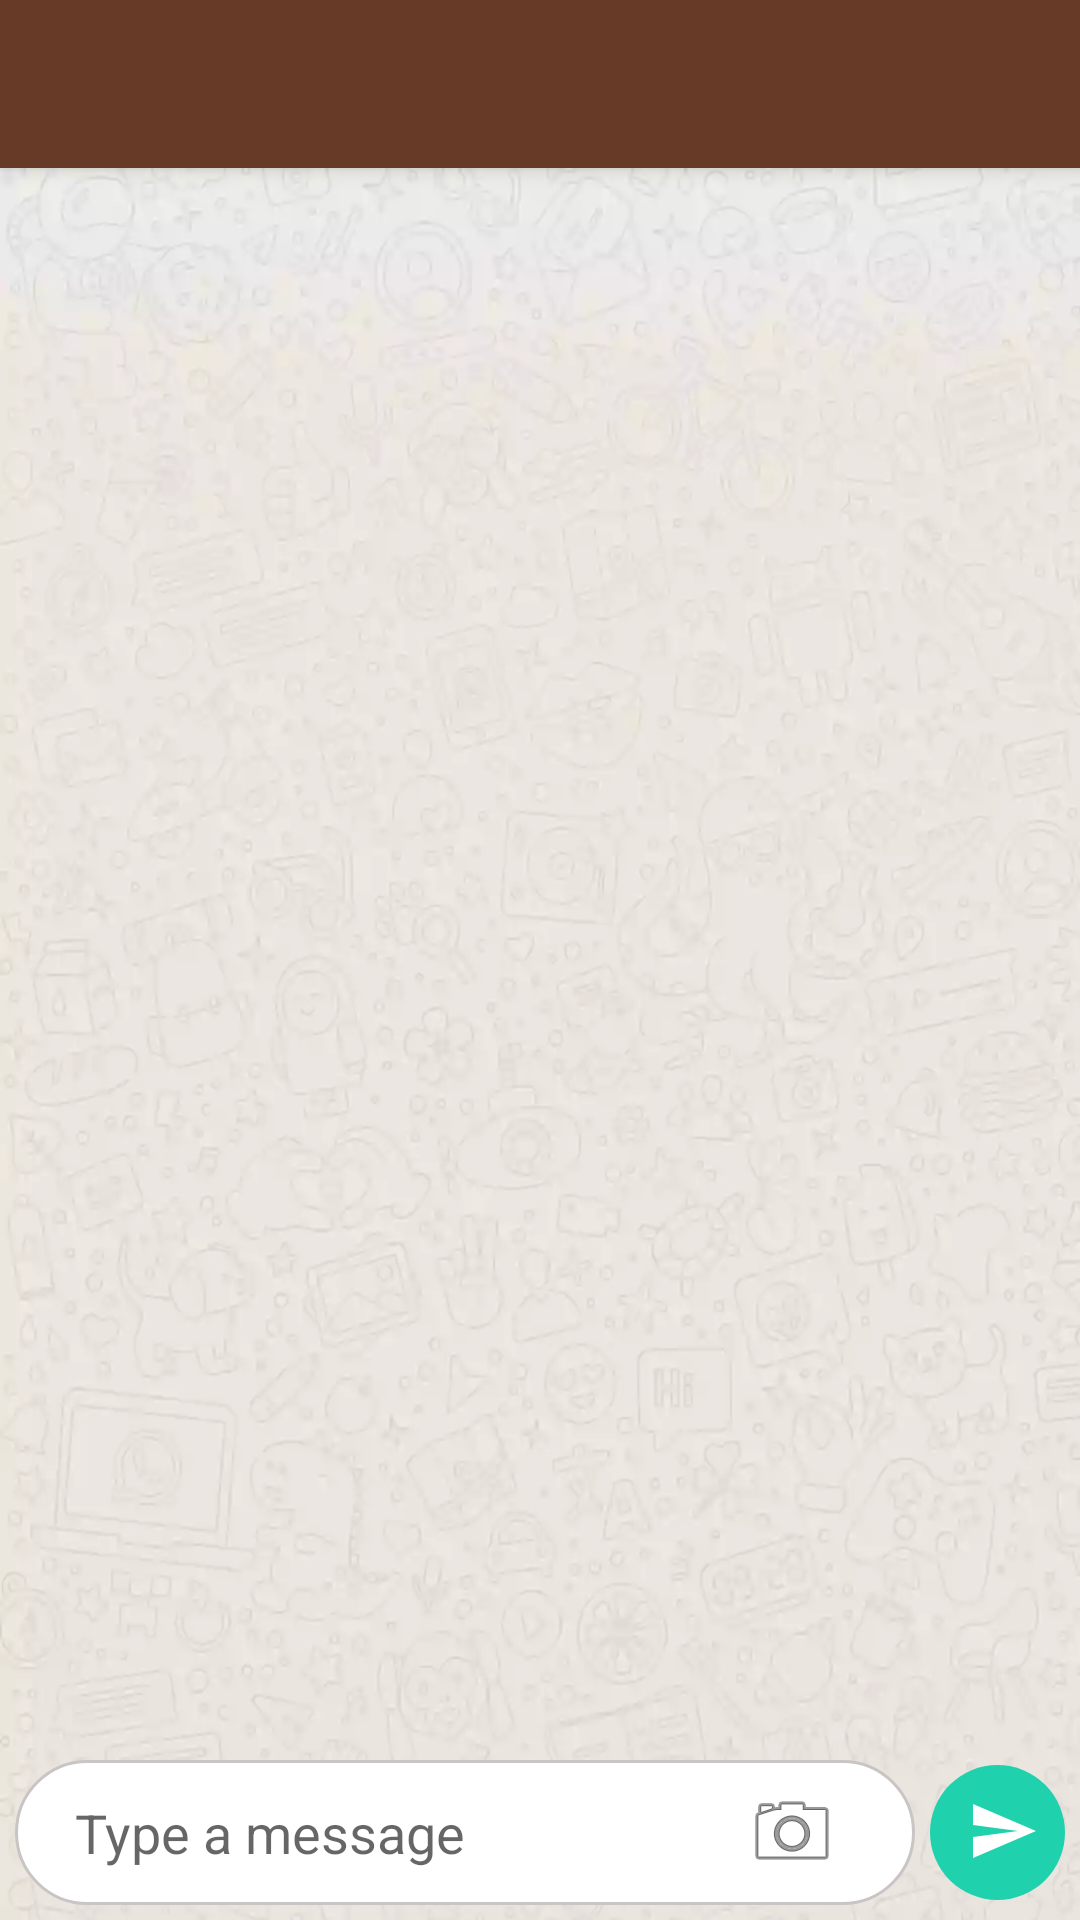

Icons on this 1080x1920 Android screen, each with its box as (x1, y1, x2, y2):
camera: (755, 1801, 829, 1860)
send: (973, 1804, 1036, 1858)
